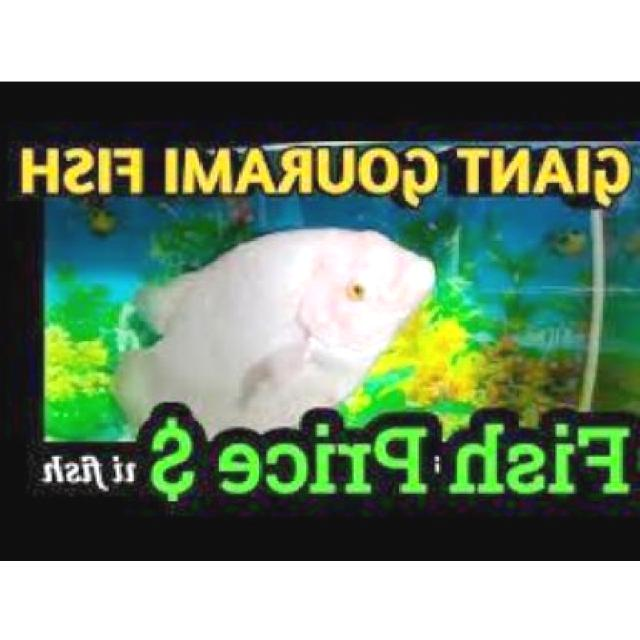gurame: (112, 222, 436, 427)
